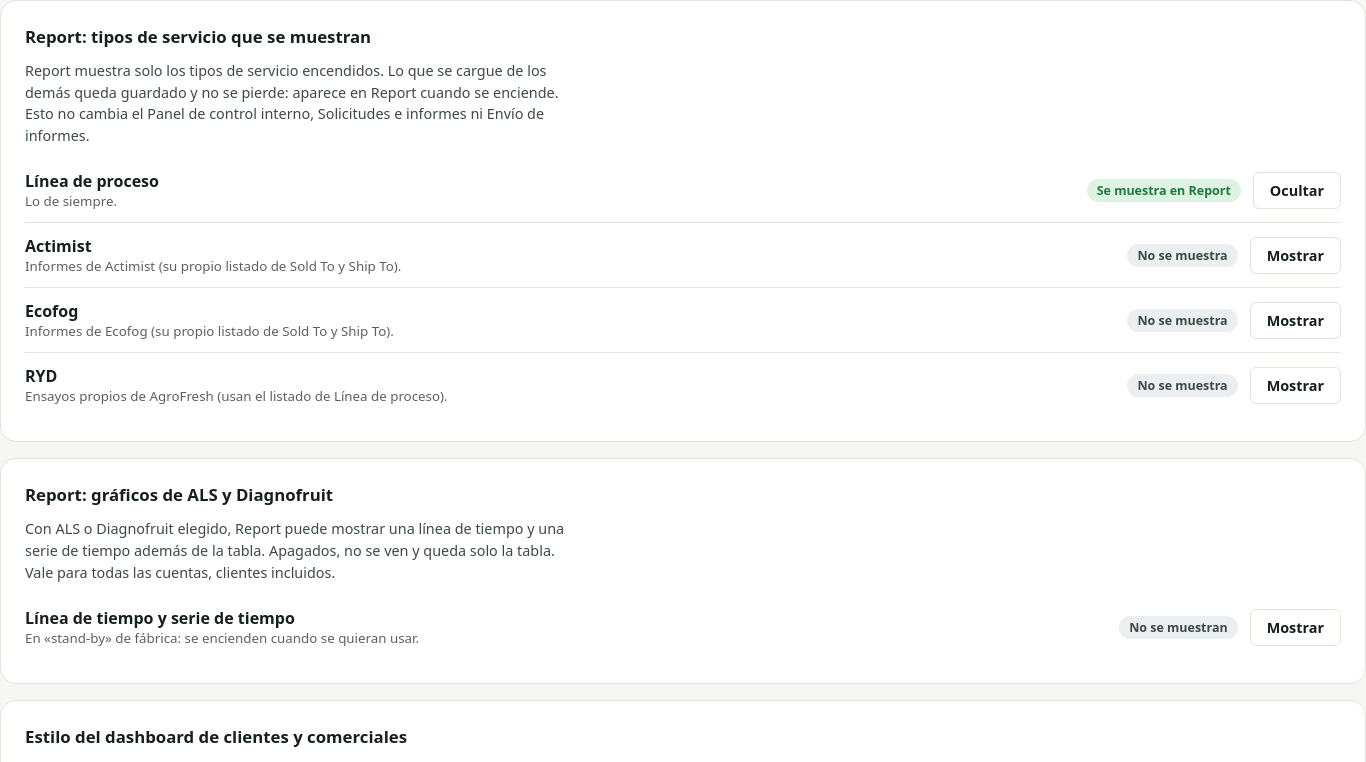
FuncionesPanel › una contraseña equivocada se muestra y no cambia el estado
Click the button with aria-label "Mostrar RYD en Report" at (1295, 385), box [1250, 367, 1341, 404]
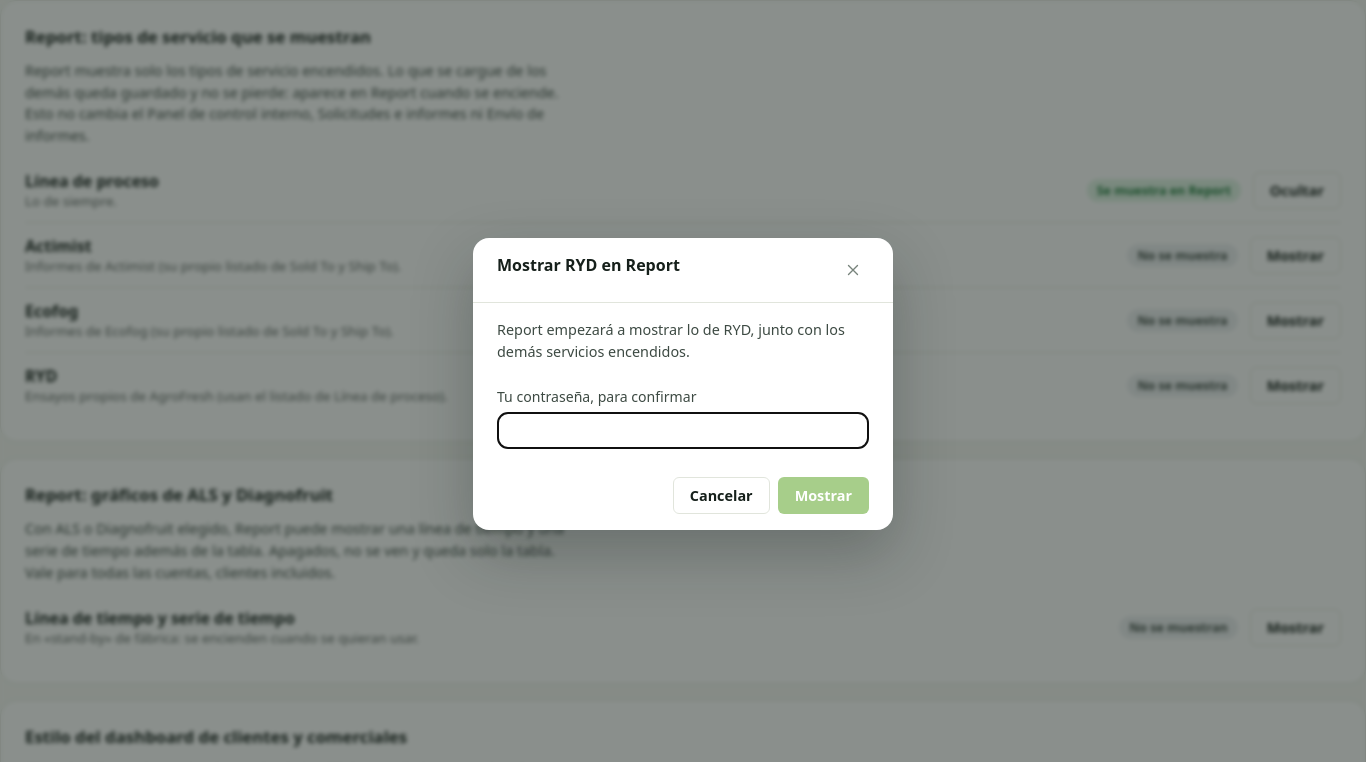
Type "mala" into the password field labelled "Tu contraseña, para confirmar" at (683, 430), box [497, 412, 869, 449]
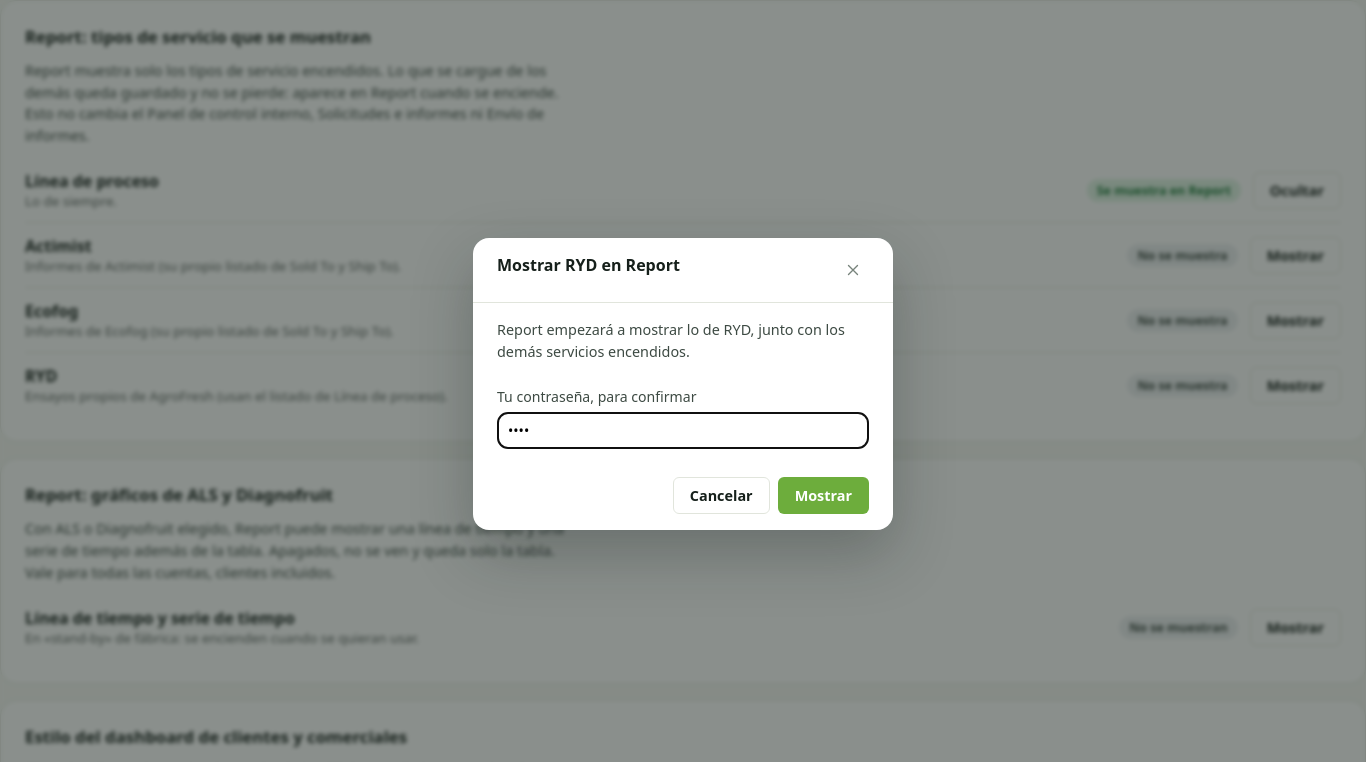
Click the button "Mostrar" at (823, 495), box [778, 477, 869, 514]
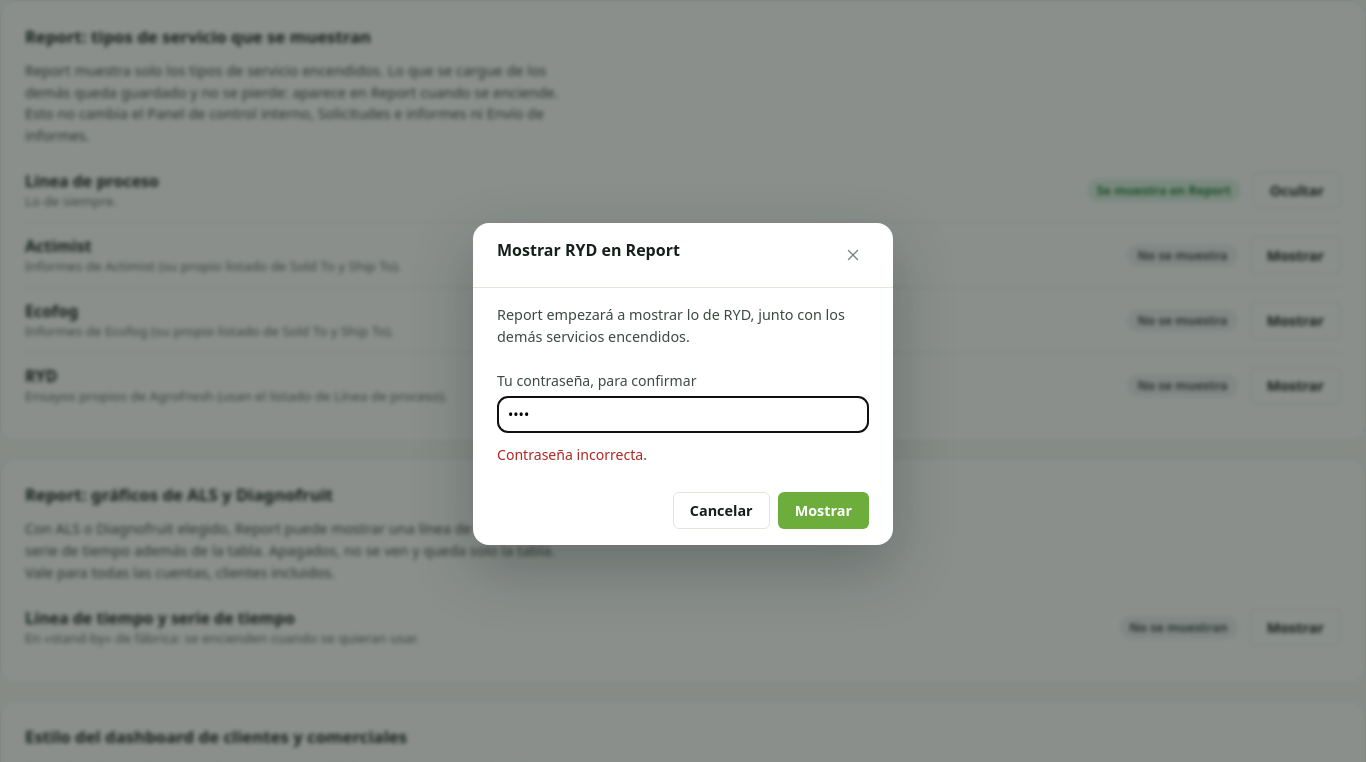
Expected: the text "Se muestra en Report" is shown once, [1087, 179, 1241, 202]
Result: the text "Contraseña incorrecta." is shown at [497, 445, 647, 464]
